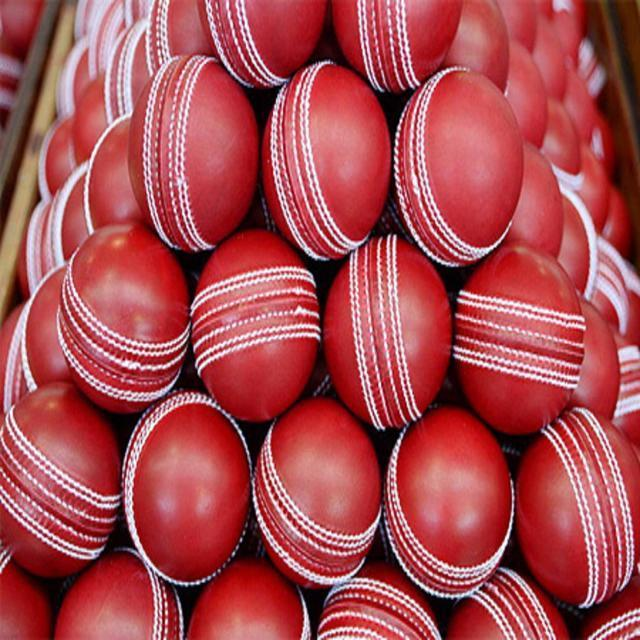cricket ball: (128, 53, 260, 252), (56, 218, 190, 414), (395, 68, 525, 266), (262, 63, 391, 259), (513, 410, 640, 609), (122, 392, 252, 586), (455, 240, 585, 433), (383, 406, 514, 597), (251, 398, 380, 590), (323, 239, 453, 428), (191, 231, 319, 419), (0, 382, 120, 577), (54, 548, 183, 639)
